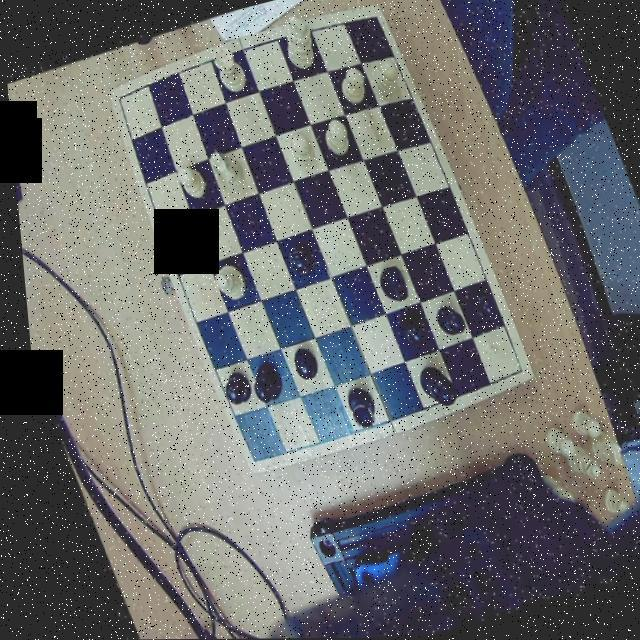chess-table-corners: (234, 441, 264, 472), (497, 358, 526, 386), (364, 5, 388, 36), (108, 84, 134, 110)
